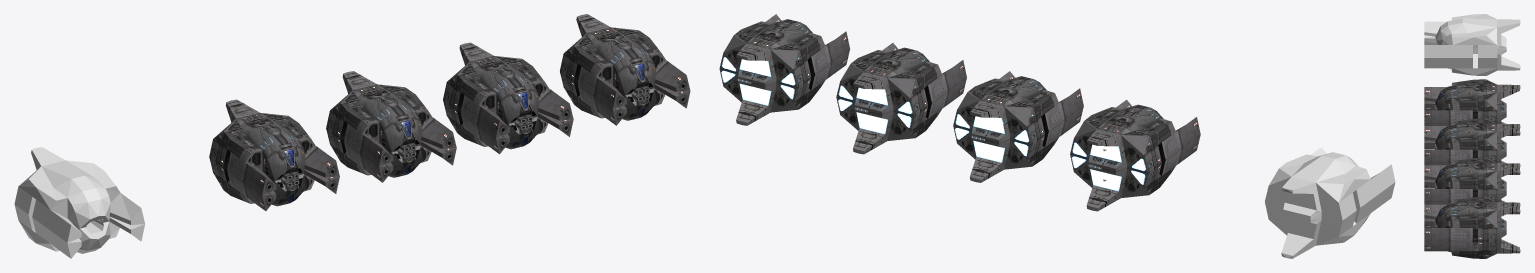
File: smt_acv.DAE
The picture shows the model from 3 angles, left to right: view 1: azimuth 30°, elevation 25°; view 2: azimuth 150°, elevation 25°; view 3: azimuth 270°, elevation 25°; orthographic projection. The views are drawn at different scales.
Visible parts, largest first — view 1: COL[Root], MULT[root_mesh]_LOD[0], MULT[root_mesh]_LOD[1], MULT[root_mesh]_LOD[3], MULT[root_mesh]_LOD[2]; view 2: COL[Root], MULT[root_mesh]_LOD[2], MULT[root_mesh]_LOD[1], MULT[root_mesh]_LOD[3], MULT[root_mesh]_LOD[0]; view 3: COL[Root], MULT[root_mesh]_LOD[3], MULT[root_mesh]_LOD[2], MULT[root_mesh]_LOD[1], MULT[root_mesh]_LOD[0].
Part boxes in pixels (<box>): COL[Root]: <box>14,147,144,258</box>; MULT[root_mesh]_LOD[0]: <box>209,99,339,210</box>; MULT[root_mesh]_LOD[1]: <box>326,71,456,182</box>; MULT[root_mesh]_LOD[3]: <box>560,14,690,125</box>; MULT[root_mesh]_LOD[2]: <box>443,42,573,154</box>; COL[Root]: <box>1265,147,1395,258</box>; MULT[root_mesh]_LOD[2]: <box>836,43,966,154</box>; MULT[root_mesh]_LOD[1]: <box>953,71,1083,182</box>; MULT[root_mesh]_LOD[3]: <box>719,14,849,125</box>; MULT[root_mesh]_LOD[0]: <box>1070,99,1200,211</box>; COL[Root]: <box>1424,14,1520,75</box>; MULT[root_mesh]_LOD[3]: <box>1424,197,1520,258</box>; MULT[root_mesh]_LOD[2]: <box>1424,157,1520,214</box>; MULT[root_mesh]_LOD[1]: <box>1424,118,1520,174</box>; MULT[root_mesh]_LOD[0]: <box>1424,79,1520,135</box>.
Bounding box in the file's own units: 151 × 16.48 × 29.24.
15 materials, 15 textured.
